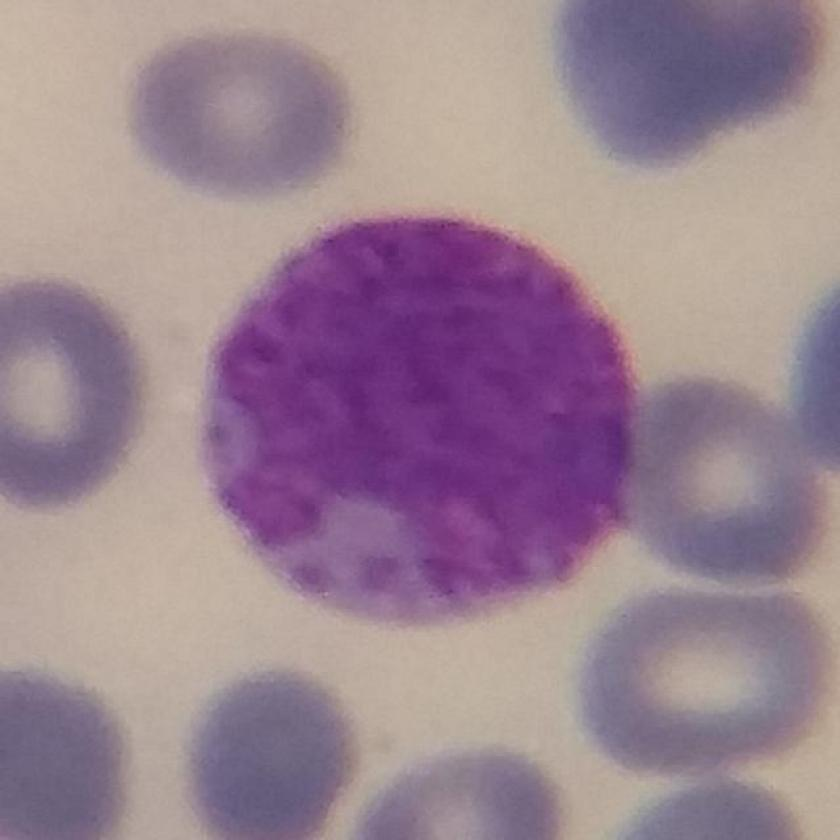basophil: (195, 211, 643, 632)
